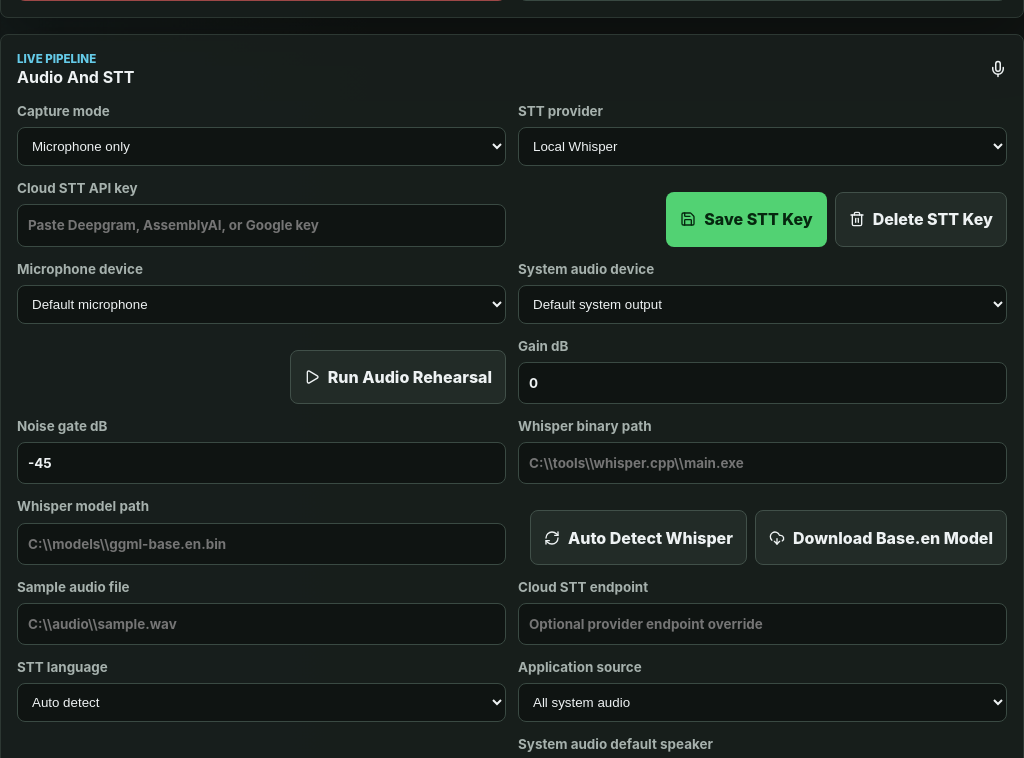
Test: Settings › runs a live audio rehearsal from Settings
The width and height of the screenshot is (1024, 758).
(page scrolled)
Step 1. Click the button "Run Audio Rehearsal" → [398, 377], box [290,350,506,404]
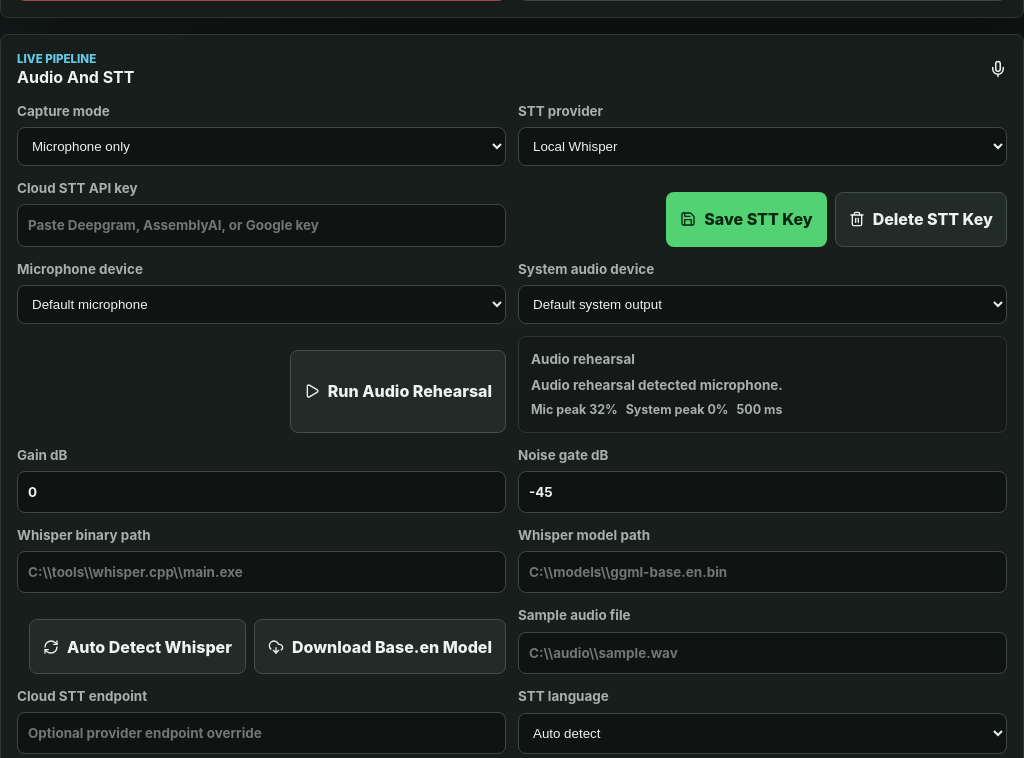
Now the text "Audio rehearsal detected microphone." is shown, box [531,377,783,393]
Now the text "Mic peak 32%" is shown, box [531,401,618,420]
